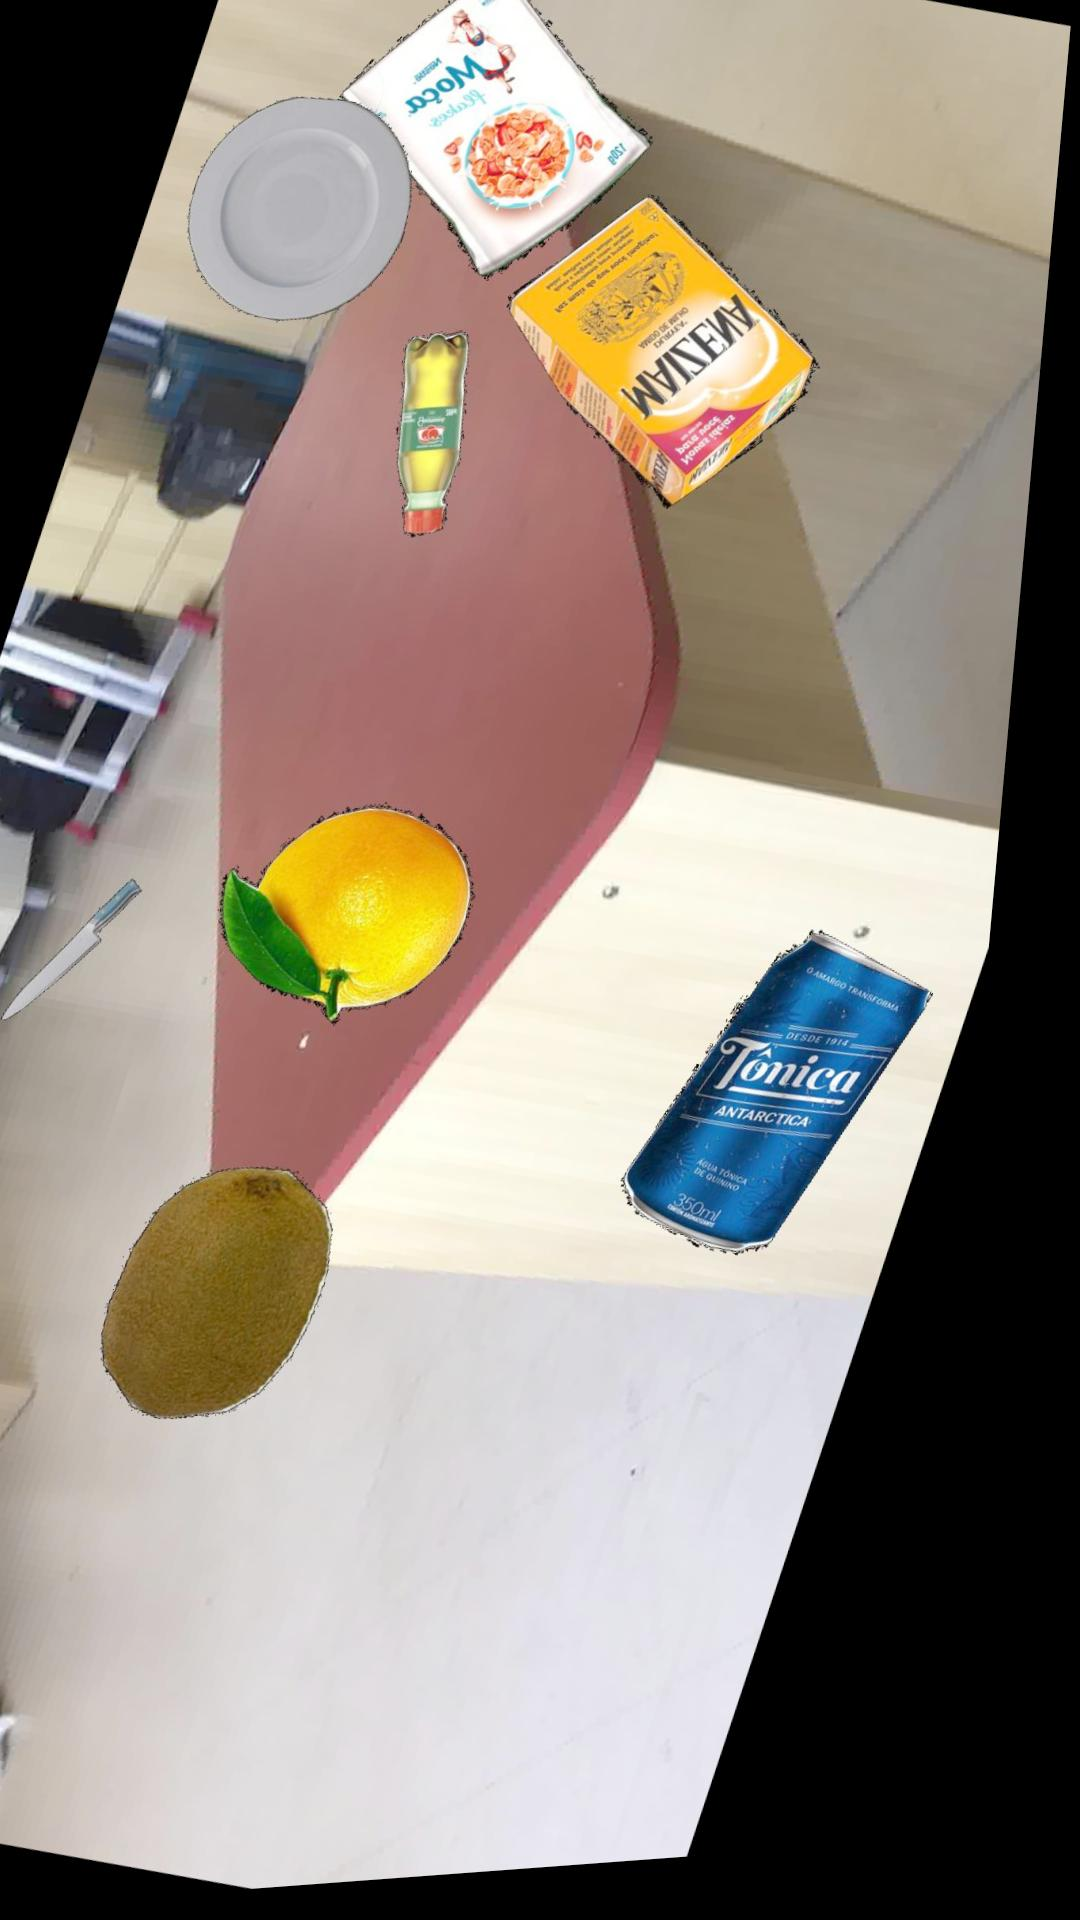corn flakes: (342, 0, 657, 287)
guarana: (406, 340, 477, 546)
kiwi: (127, 1174, 357, 1424)
knife: (21, 884, 160, 1022)
orange: (237, 814, 492, 1031)
plate: (193, 103, 417, 327)
tonic: (645, 944, 953, 1270)
